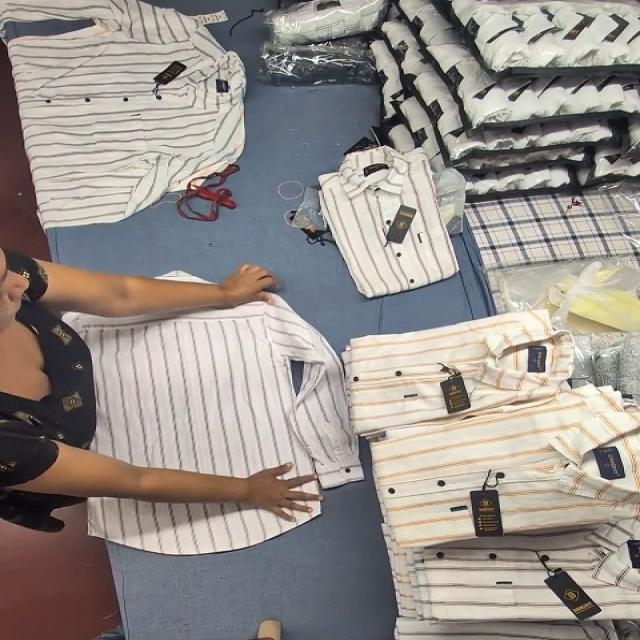new-garment: (67, 296, 361, 488), (88, 498, 319, 554)
